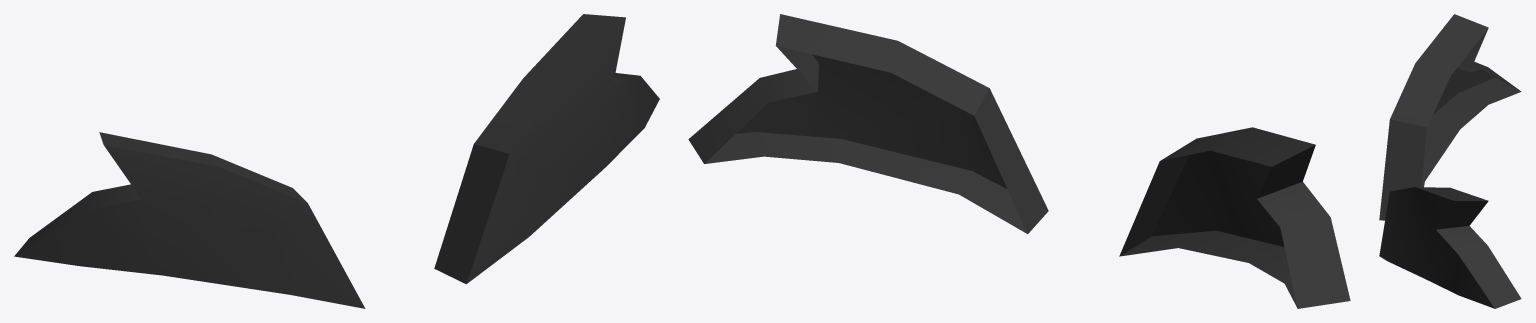
Rendered from Brow_Black_6.fbx.
The picture shows the model from 3 angles, left to right: view 1: azimuth 30°, elevation 25°; view 2: azimuth 150°, elevation 25°; view 3: azimuth 270°, elevation 25°; orthographic projection. The views are drawn at different scales.
Parts seen in each view (by area): view 1: Brow_Black_6; view 2: Brow_Black_6; view 3: Brow_Black_6.
Boxes of the visible parts, box(x1,y1,x2,y2) form: Brow_Black_6: box(14, 14, 659, 308); Brow_Black_6: box(688, 14, 1350, 308); Brow_Black_6: box(1379, 14, 1521, 308).
Bounding box in the file's own units: 40.86 × 10.89 × 10.63.
